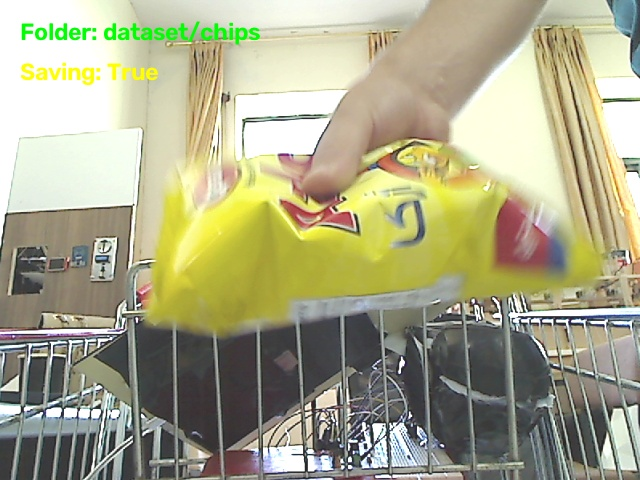chips: (148, 140, 599, 334)
